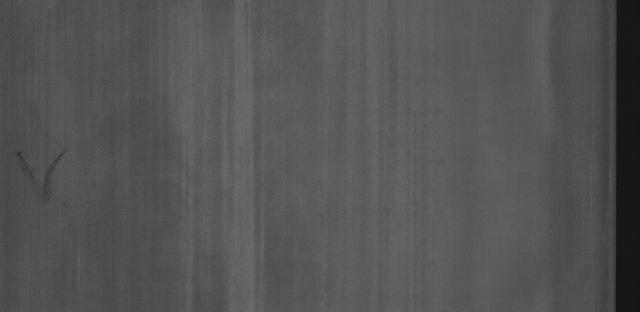water_spot: (15, 139, 72, 211)
